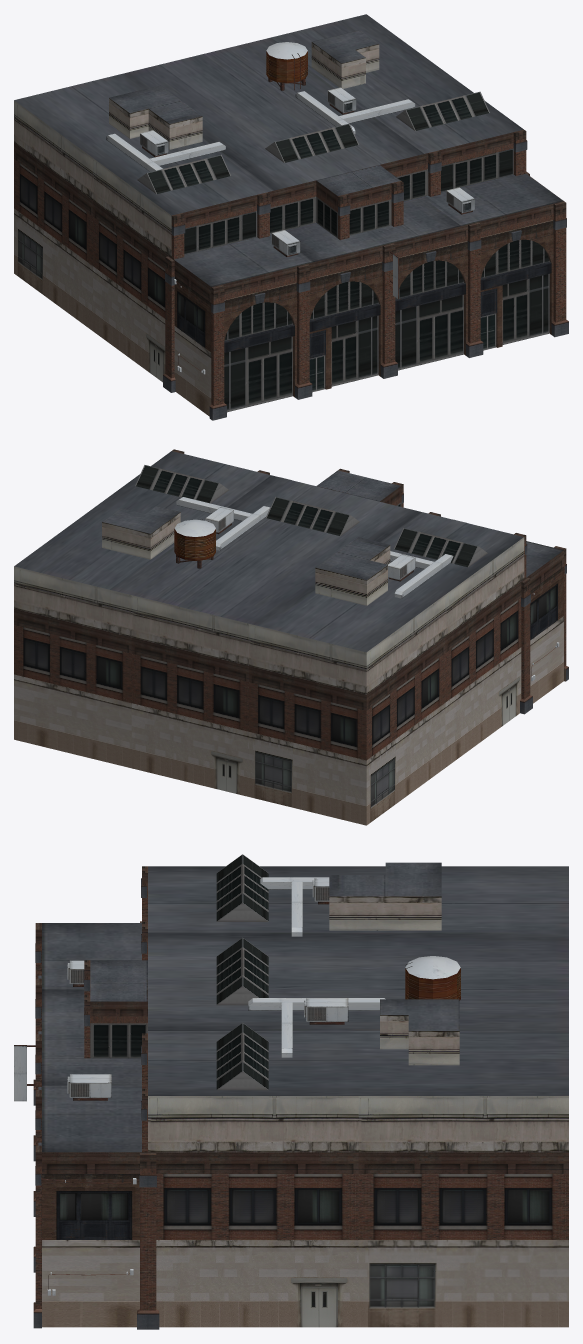
File: mall.fbx
3 views of the same model, one above another, from view 1: azimuth 30°, elevation 25°; view 2: azimuth 150°, elevation 25°; view 3: azimuth 270°, elevation 25° (orthographic). The views are drawn at different scales.
Parts seen in each view (by area): view 1: Downtown_Mall_1__2_; view 2: Downtown_Mall_1__2_; view 3: Downtown_Mall_1__2_.
Part boxes in pixels (x1,y1,x2,y2): Downtown_Mall_1__2_: (14, 14, 568, 420); Downtown_Mall_1__2_: (14, 449, 568, 825); Downtown_Mall_1__2_: (14, 854, 568, 1329).
Bounding box in the file's own units: 8385 × 4696 × 8363.
Materials: 2 (2 with a texture image).
